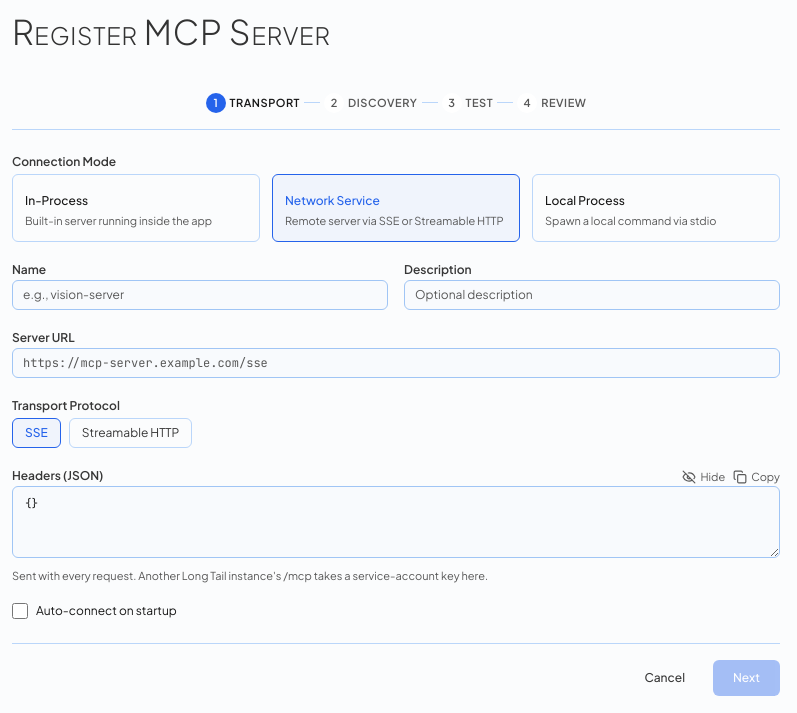
Scenario: McpServerDetailPage › shows Command field when Local Process mode is selected
Step 1. Click the text "Local Process" → point(585, 200), box [545,193,625,208]
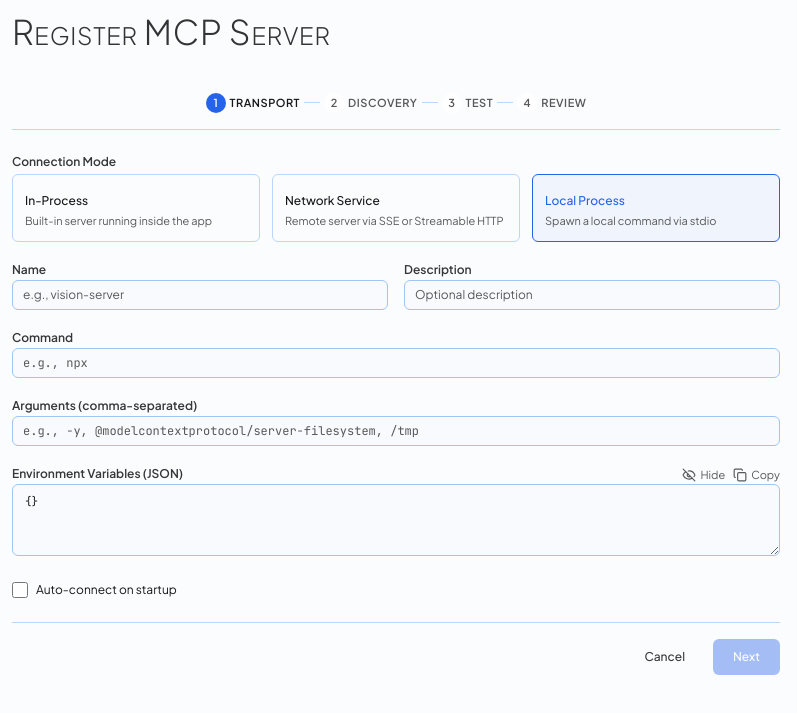
Now the field with placeholder "e.g., npx" is shown, box [12,348,780,378]
